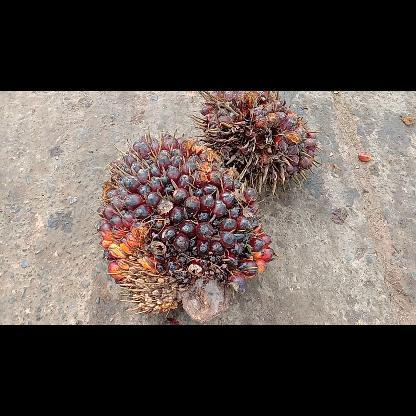Kurang masak: (91, 126, 273, 324)
TBS masak: (192, 91, 320, 195)
